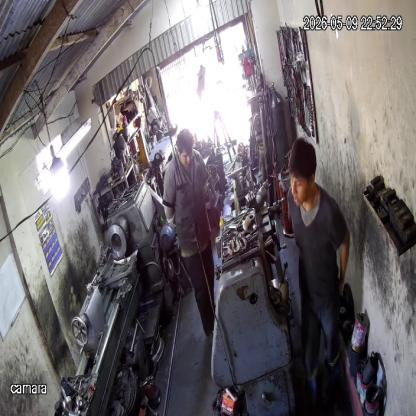sin_lentes: (289, 176, 305, 192)
